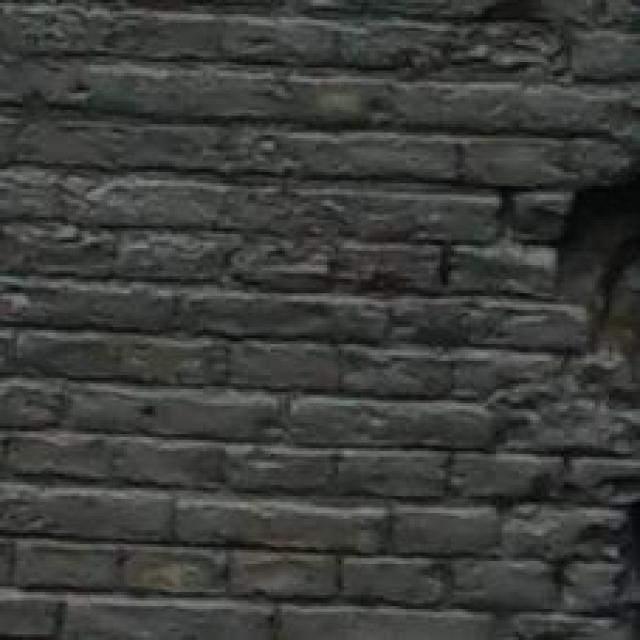Crack: (452, 142, 640, 491)
